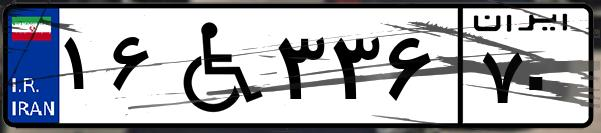0: (525, 38, 570, 115)
1: (57, 26, 110, 100)
3: (270, 28, 330, 110), (330, 28, 385, 110)
6: (385, 28, 445, 110), (110, 28, 158, 98)
7: (475, 38, 525, 113)
ژ (معلولین و جانبازان): (158, 12, 270, 120)
